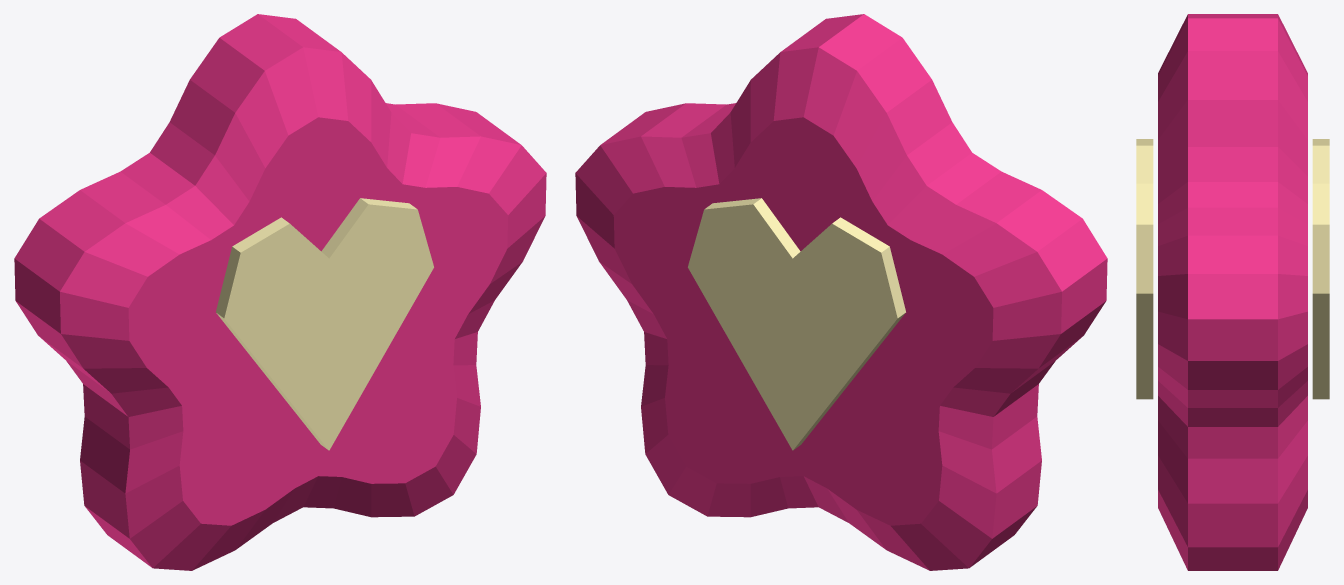
File: copy_essence_pink.obj
The picture shows the model from 3 angles, left to right: view 1: azimuth 30°, elevation 25°; view 2: azimuth 150°, elevation 25°; view 3: azimuth 270°, elevation 25°; orthographic projection.
Size of the model in its own units: 1.48 by 1.45 by 0.515.
